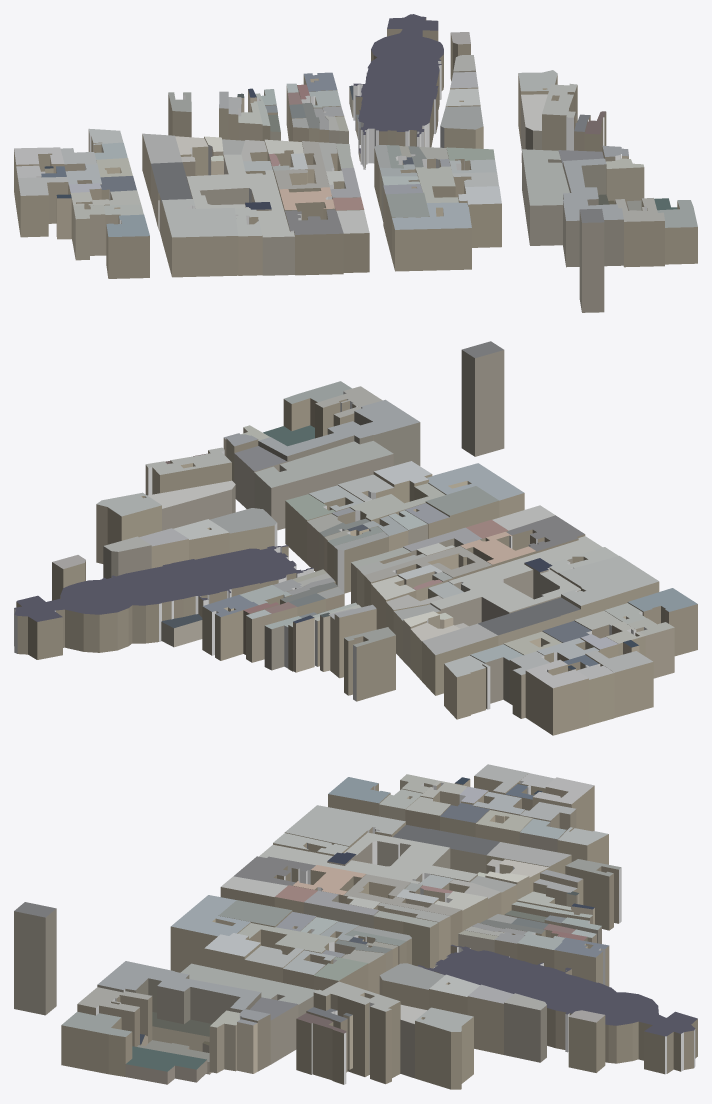
3 views of the same model, one above another, from view 1: azimuth 30°, elevation 25°; view 2: azimuth 150°, elevation 25°; view 3: azimuth 270°, elevation 25° (orthographic). The views are drawn at different scales.
Parts seen in each view (by area): view 1: tuile; view 2: tuile; view 3: tuile.
Part boxes in pixels (x1,y1,x2,y2): tuile: (14, 14, 697, 312); tuile: (14, 341, 697, 735); tuile: (14, 764, 697, 1089).
Bounding box in the file's own units: 273 × 45.05 × 285.
